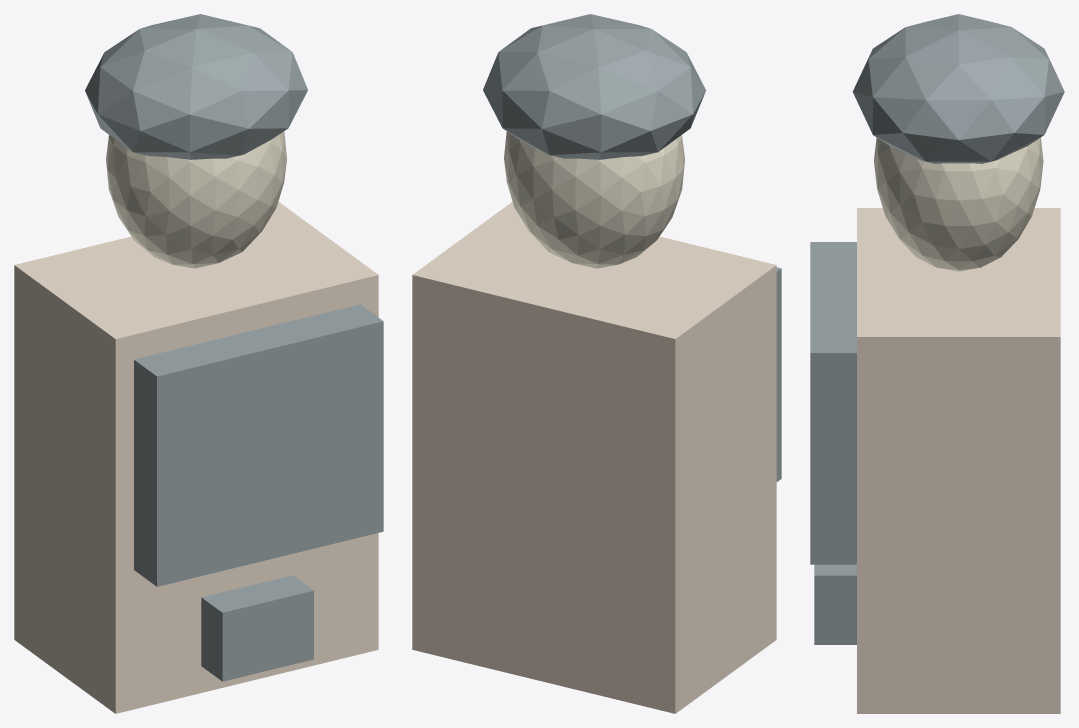
Rendered from enemy_humanoid.glb.
3 renders of one model, left to right at view 1: azimuth 30°, elevation 25°; view 2: azimuth 150°, elevation 25°; view 3: azimuth 270°, elevation 25°, orthographic.
Parts seen in each view (by area): view 1: torso, armor, helmet, head, boot; view 2: torso, helmet, head, armor; view 3: torso, helmet, head, armor, boot.
Boxes of the visible parts, x1,y1,x2,y2 form: torso: [14, 202, 378, 713]; armor: [134, 304, 383, 586]; helmet: [85, 14, 307, 159]; head: [106, 131, 286, 268]; boot: [201, 575, 313, 681]; torso: [412, 202, 776, 713]; helmet: [483, 14, 705, 159]; head: [504, 131, 684, 268]; armor: [776, 267, 781, 481]; torso: [857, 208, 1060, 713]; helmet: [852, 14, 1064, 163]; head: [874, 137, 1043, 271]; armor: [810, 242, 856, 564]; boot: [814, 564, 856, 644].
Bounding box in the file's own units: 0.72 × 1.61 × 0.6.
